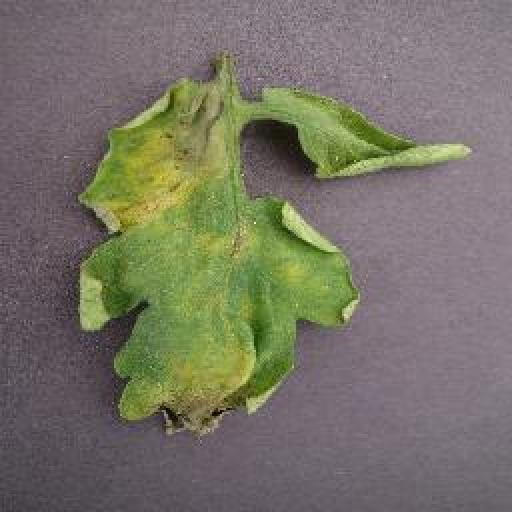Late Blight: (70, 80, 482, 433)
